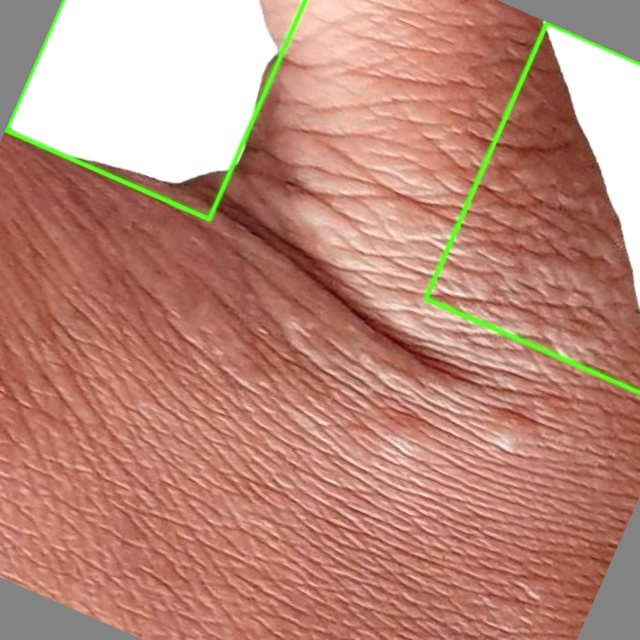Scabies: (425, 22, 639, 392), (6, 0, 306, 218)
